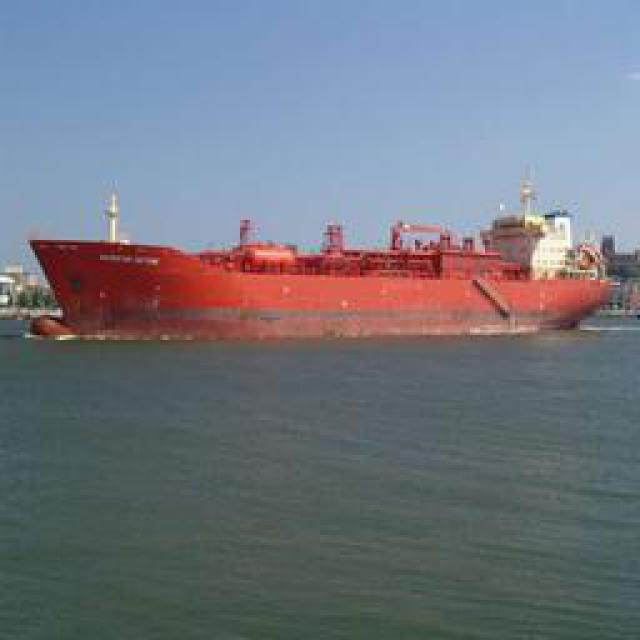Ship: (37, 222, 607, 342)
